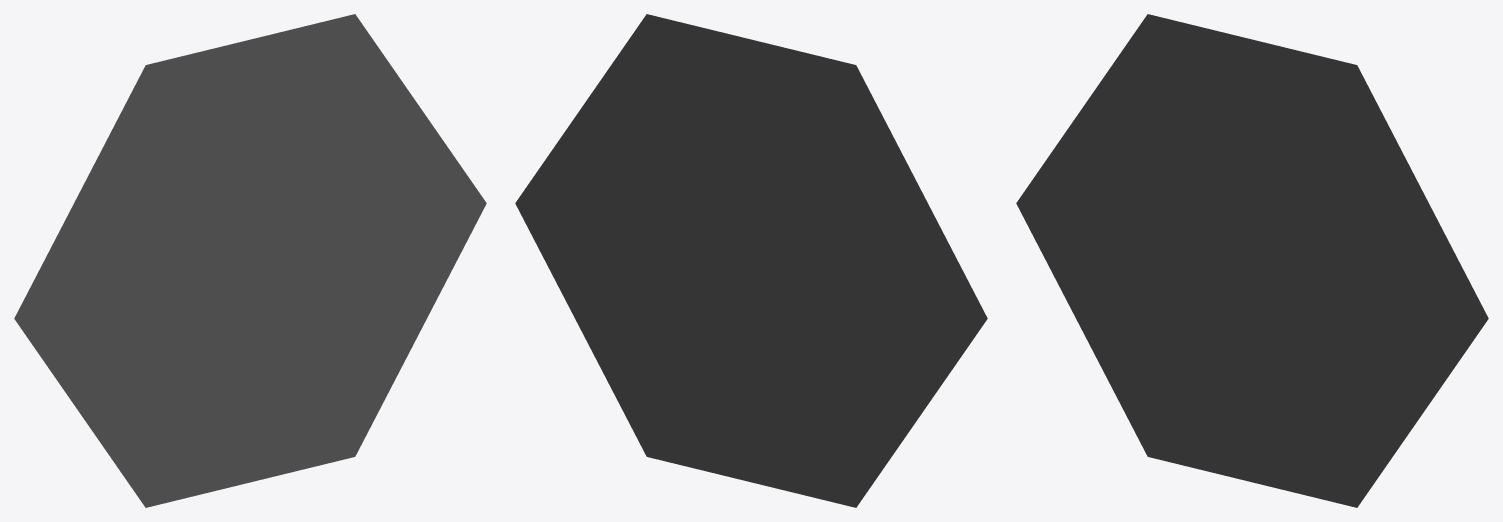
Rendered from Wheel-0.2.gltf.
The picture shows the model from 3 angles, left to right: view 1: azimuth 30°, elevation 25°; view 2: azimuth 150°, elevation 25°; view 3: azimuth 330°, elevation 25°; orthographic projection.
Visible parts, largest first — view 1: Wheel; view 2: Wheel; view 3: Wheel.
Part boxes in pixels (x1,y1,x2,y2): Wheel: (14,14,486,507); Wheel: (515,14,987,507); Wheel: (1016,14,1488,507).
Size of the model in its own units: 0.0138 by 0.0123 by 0.
1 material, 1 textured.
